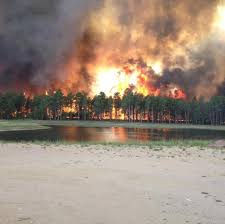fire: (70, 37, 178, 120)
smoke: (76, 3, 223, 51), (2, 1, 67, 83)
